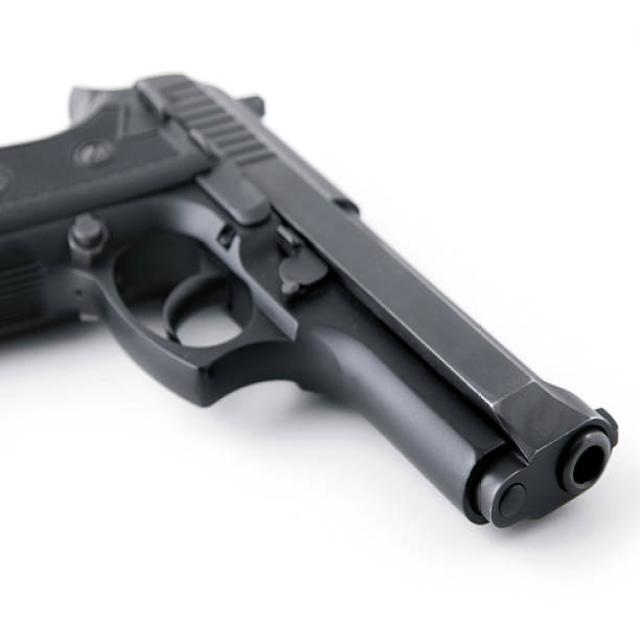pistol: (1, 66, 628, 546)
